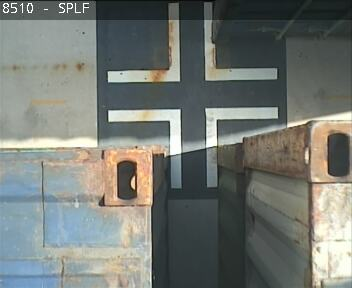groundmarker_1: (106, 105, 276, 186), (107, 1, 277, 81)
